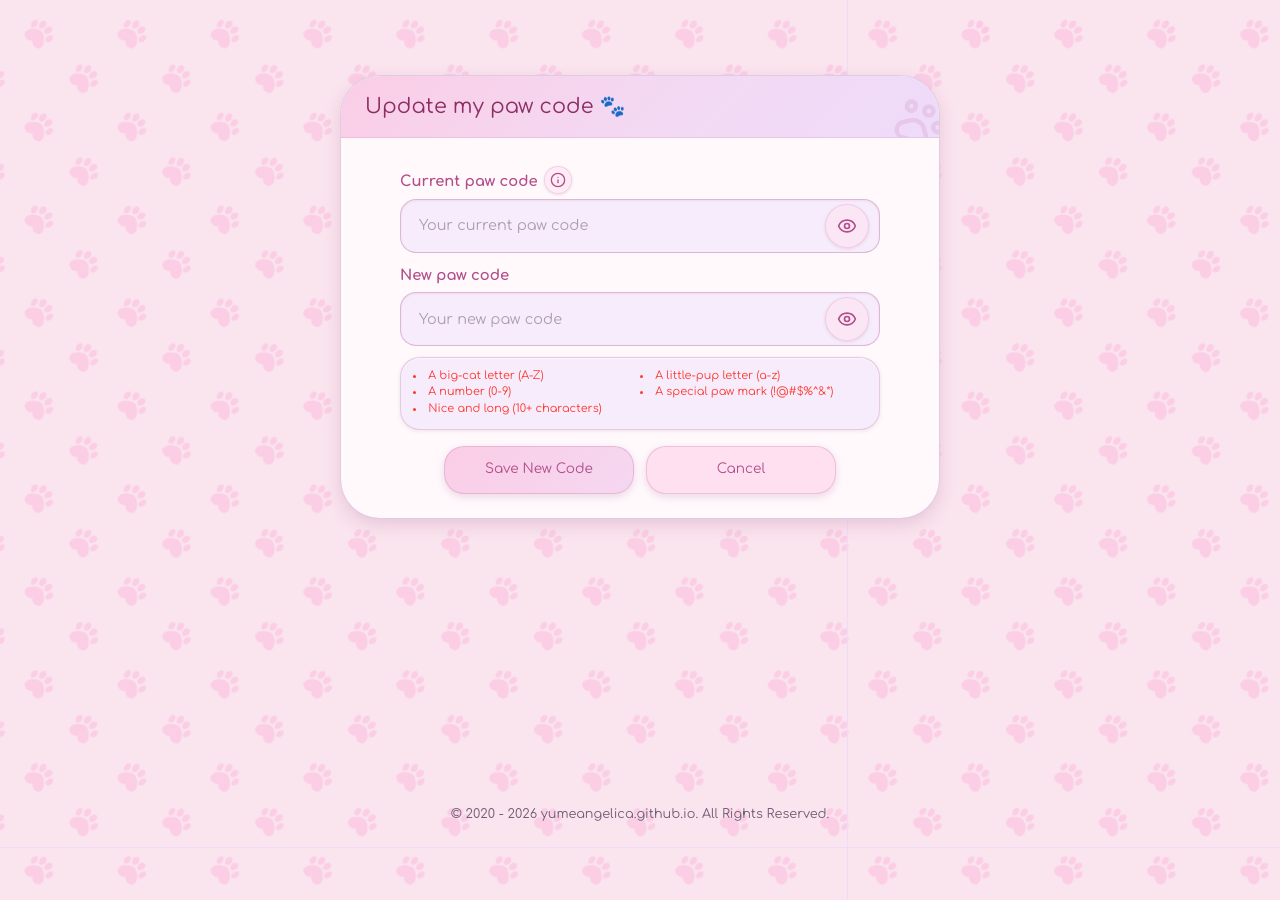
it: PageChangePassword behaviour › reflects password rule validation as the new password is typed
Type "NewPawCode1!" into the password field with id "changepw-new-password" at (640, 319), box [401,293,879,345]
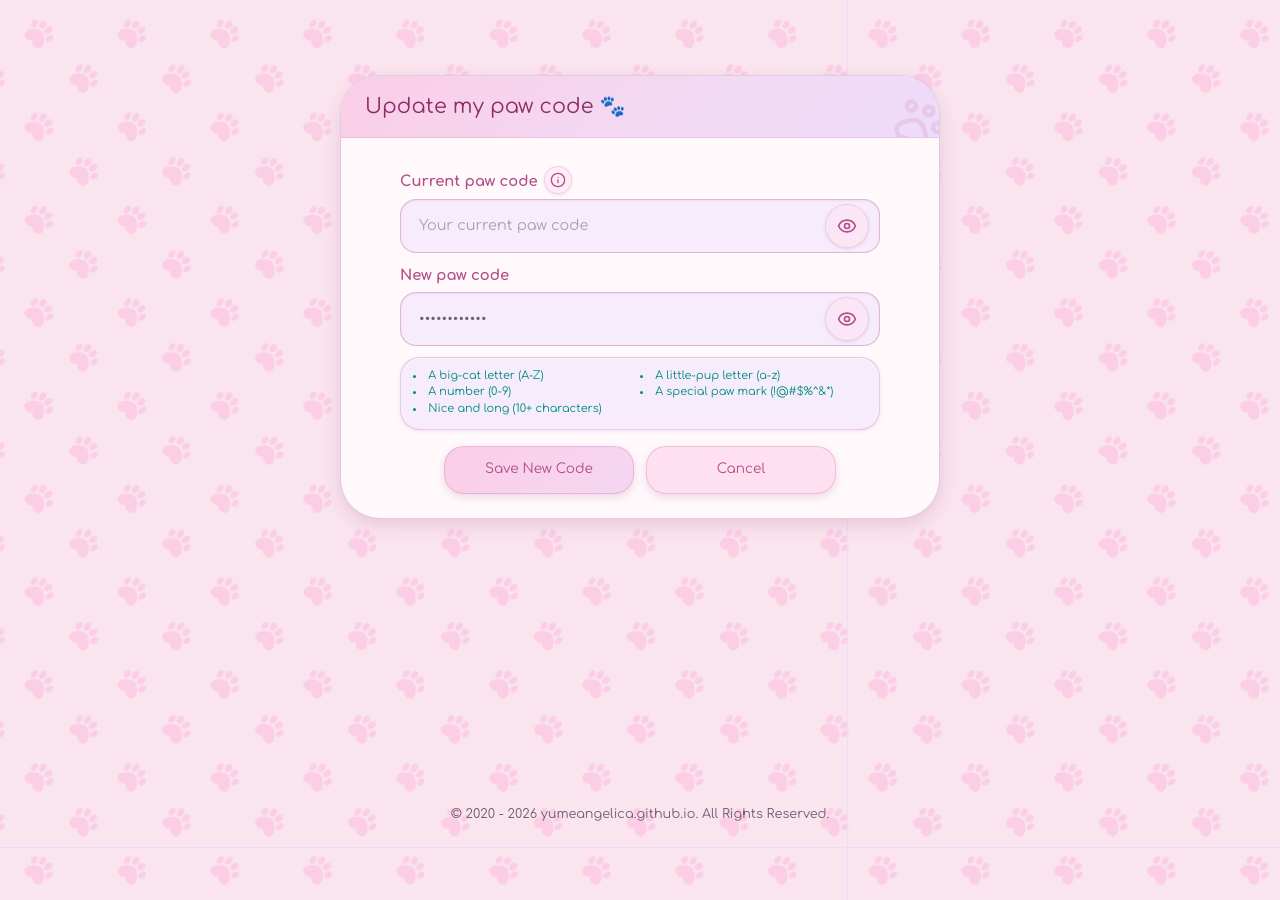
Check: the number of list items is 5, box [428,369,544,382]; [655,369,780,382]; [428,385,511,398]; [655,385,833,398]; [428,402,602,415]
